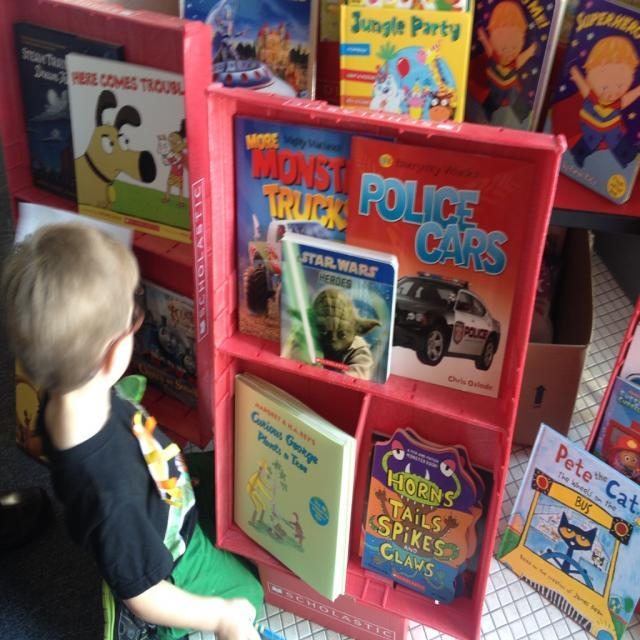book: (353, 140, 534, 413), (497, 424, 639, 640), (236, 377, 356, 603), (68, 54, 197, 246), (236, 125, 347, 344), (362, 429, 487, 618), (11, 15, 127, 197), (278, 229, 398, 382), (124, 275, 201, 413)
